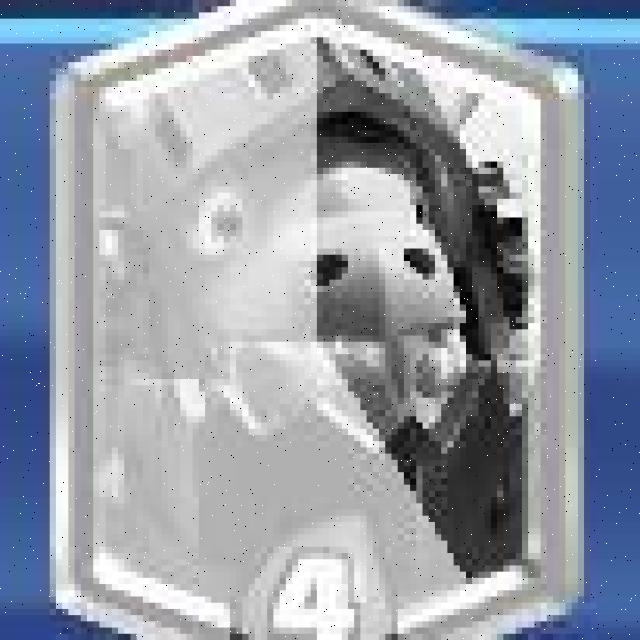Inferno_Dragon: (72, 0, 595, 640)
